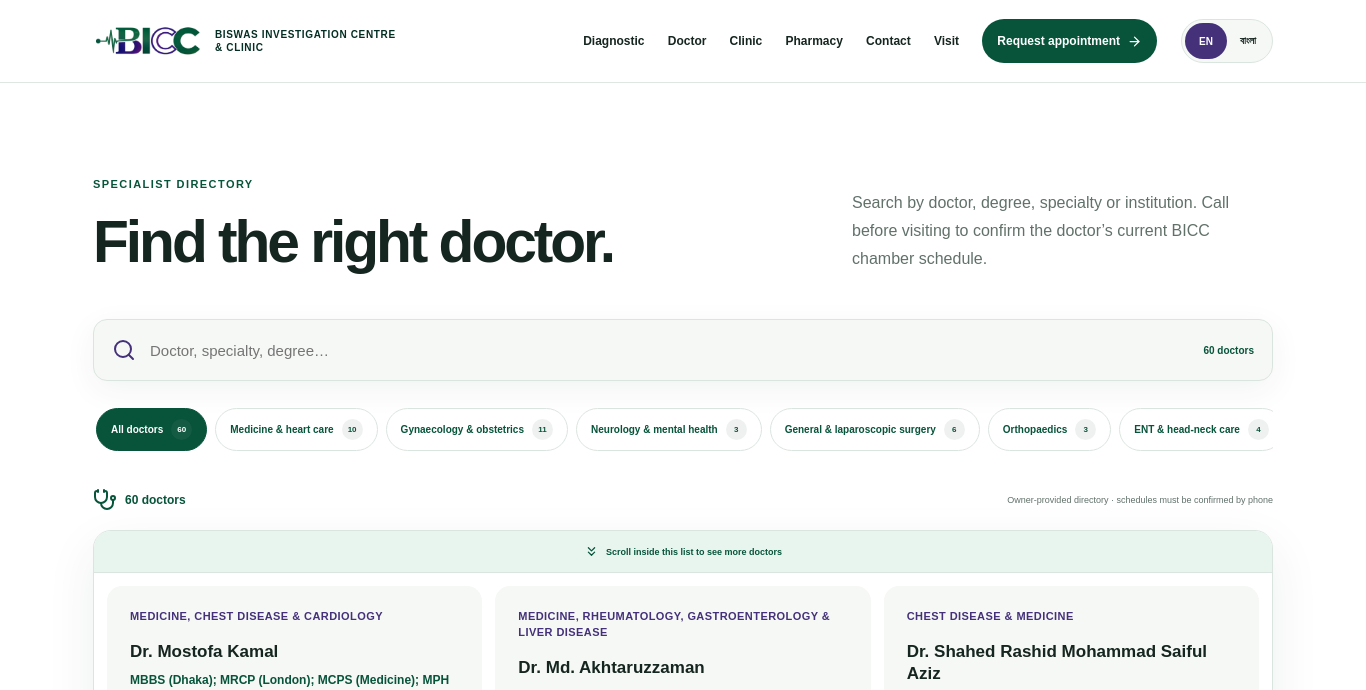
publishes the 60-doctor bilingual directory with useful specialty filters
(page scrolled)
Step 1. Click the button "Gynaecology & obstetrics 11" → (477, 430), box [386,408,568,451]
(page scrolled)
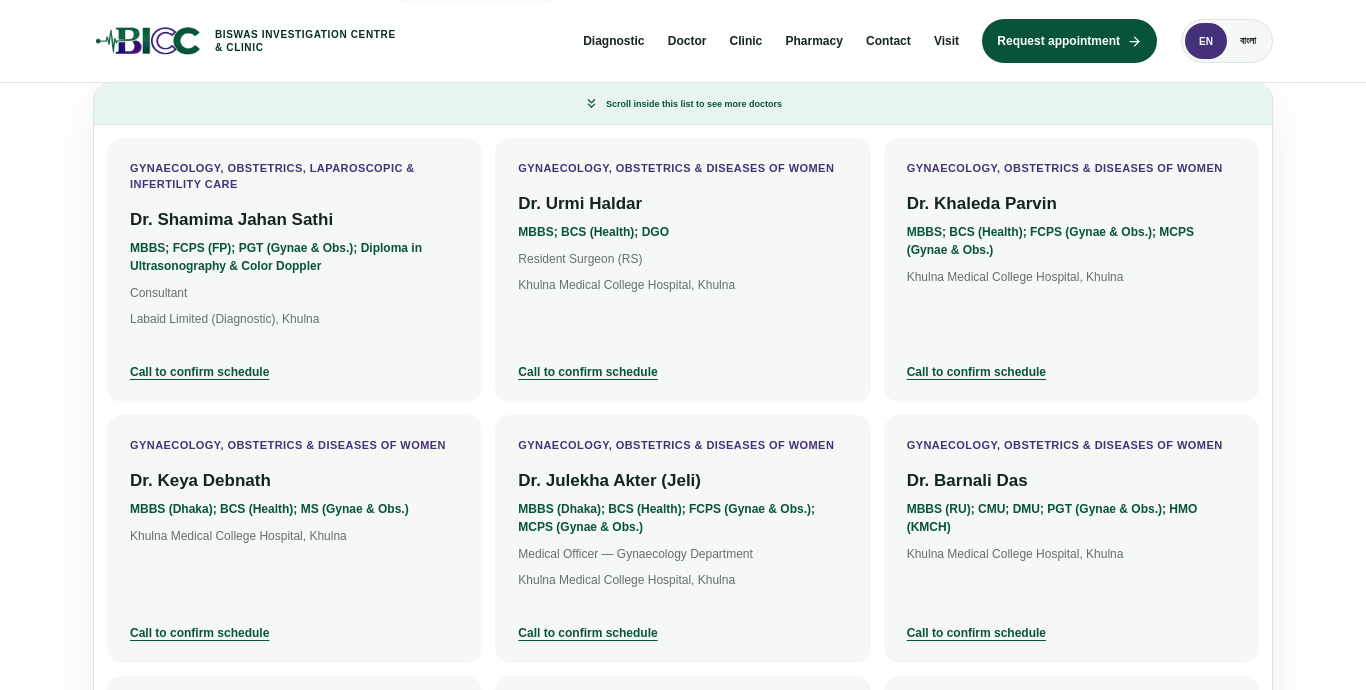
Expected: the text "Call to confirm schedule" is shown, [130,365,269,379]
Expected: the text "Dr. Shamima Jahan Sathi" is shown, [130,210,333,229]
